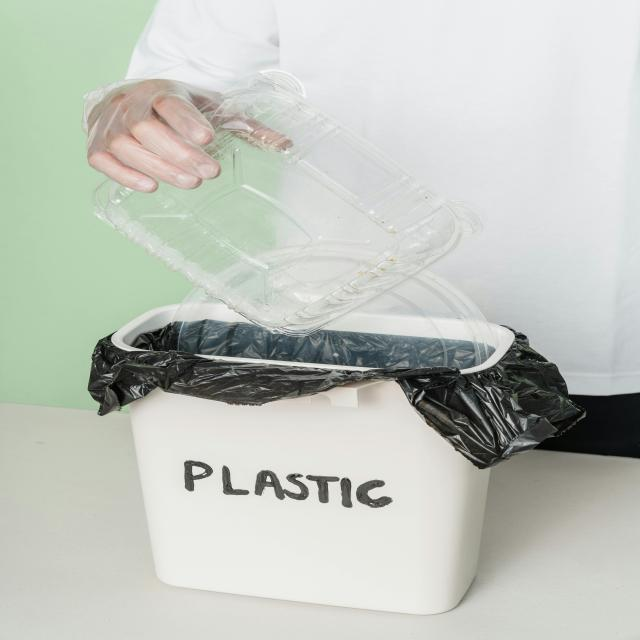plastic: (214, 166, 420, 324)
